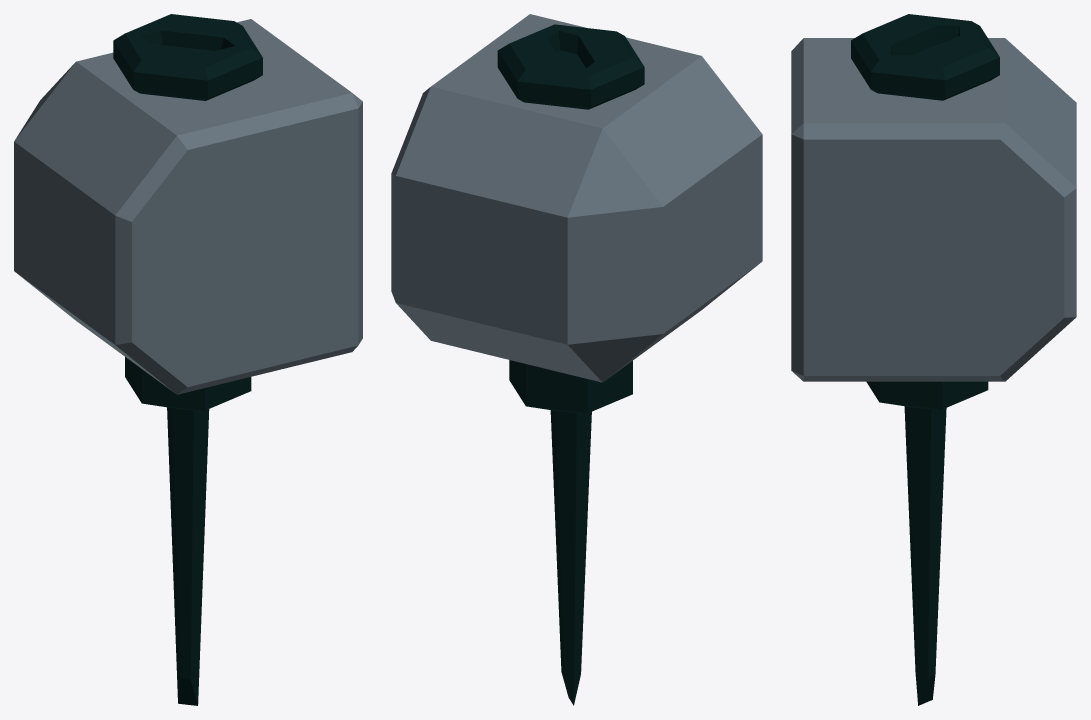
Rendered from PlatformCornerPiece.fbx.
3 views of the same model, side by side, from view 1: azimuth 30°, elevation 25°; view 2: azimuth 150°, elevation 25°; view 3: azimuth 270°, elevation 25° (orthographic).
Parts seen in each view (by area): view 1: PlatformCornerPiece; view 2: PlatformCornerPiece; view 3: PlatformCornerPiece.
Boxes of the visible parts, x1=… form: PlatformCornerPiece: x1=14, y1=14, x2=362, y2=705; PlatformCornerPiece: x1=391, y1=14, x2=762, y2=705; PlatformCornerPiece: x1=791, y1=14, x2=1076, y2=705.
Bounding box in the file's own units: 3.9 × 10 × 3.9.
